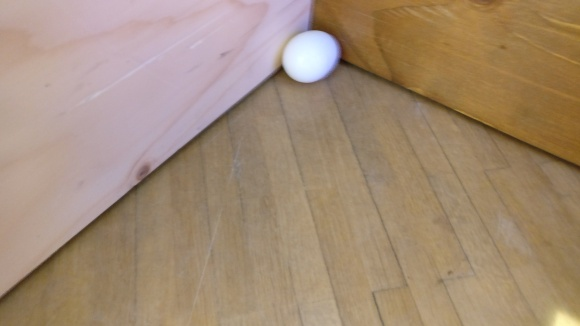egg: (281, 30, 343, 84)
